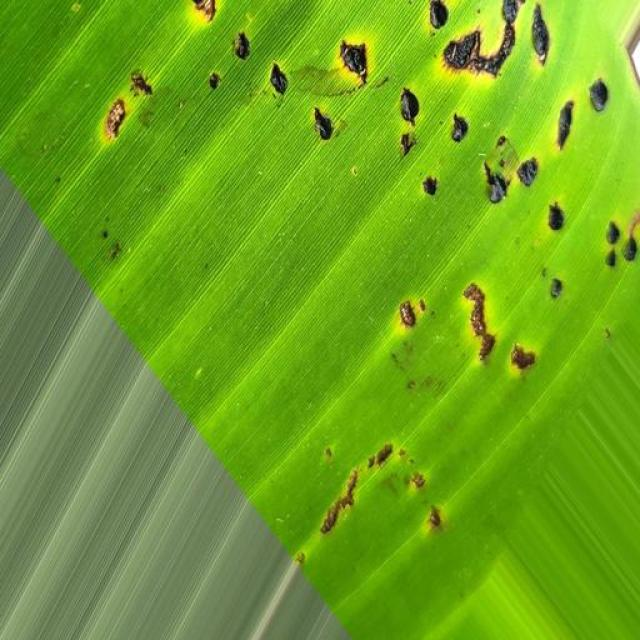Black_rot: (87, 3, 640, 275), (336, 262, 603, 397), (280, 418, 493, 580)
